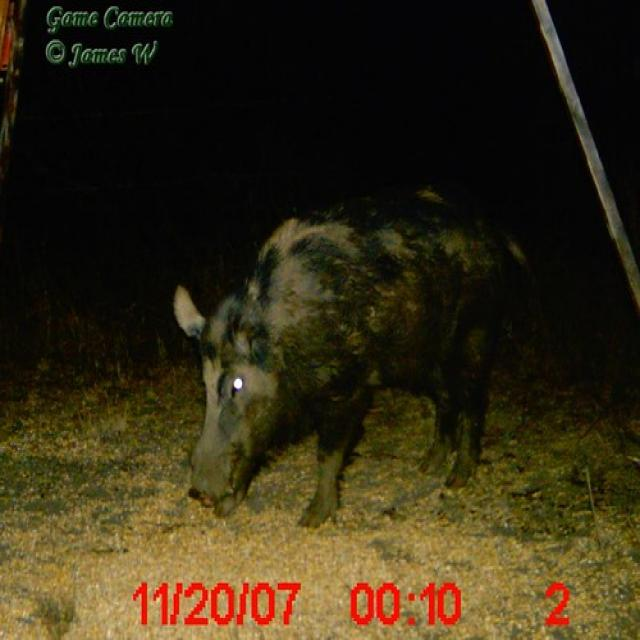boar: (147, 155, 572, 556)
